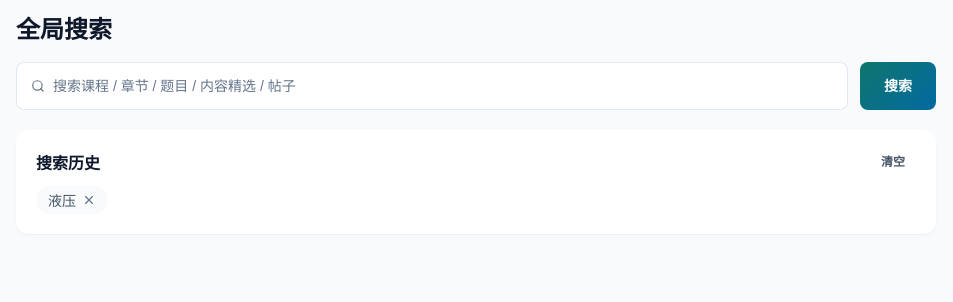
Scenario: SearchPage 全局搜索页 › 两级空态：未搜索给提示 + 本地历史；无匹配给替代路径
Type "查无" into the field with placeholder "搜索课程 / 章节 / 题目 / 内容精选 / 帖子" at (443, 86), box [53,67,833,105]
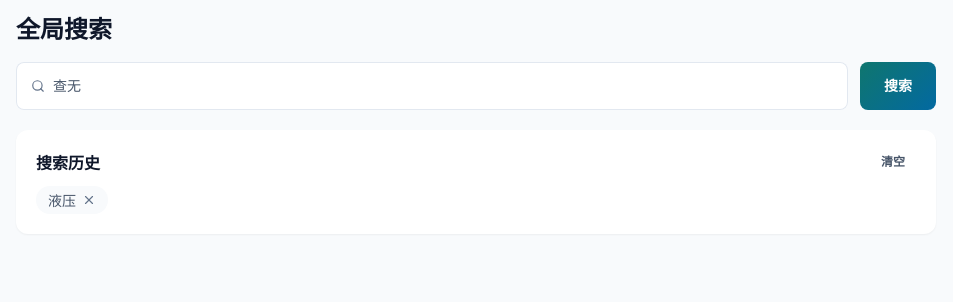
Click the button "搜索" at (898, 86), box [860,62,936,110]
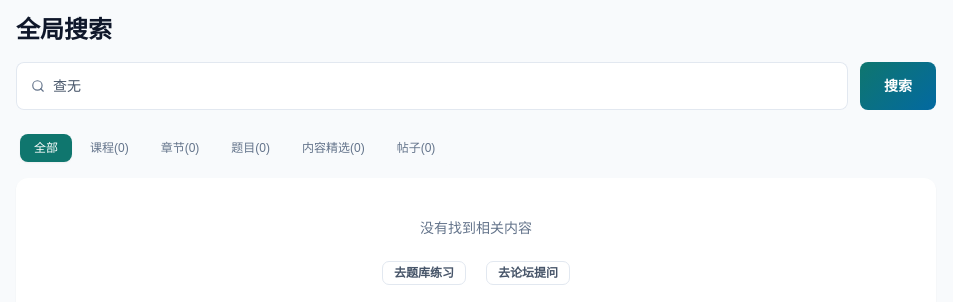
Expected: the text "没有找到相关内容" is shown, [420,218,532,237]
Expected: the text "去题库练习" is shown, [394,267,454,279]
